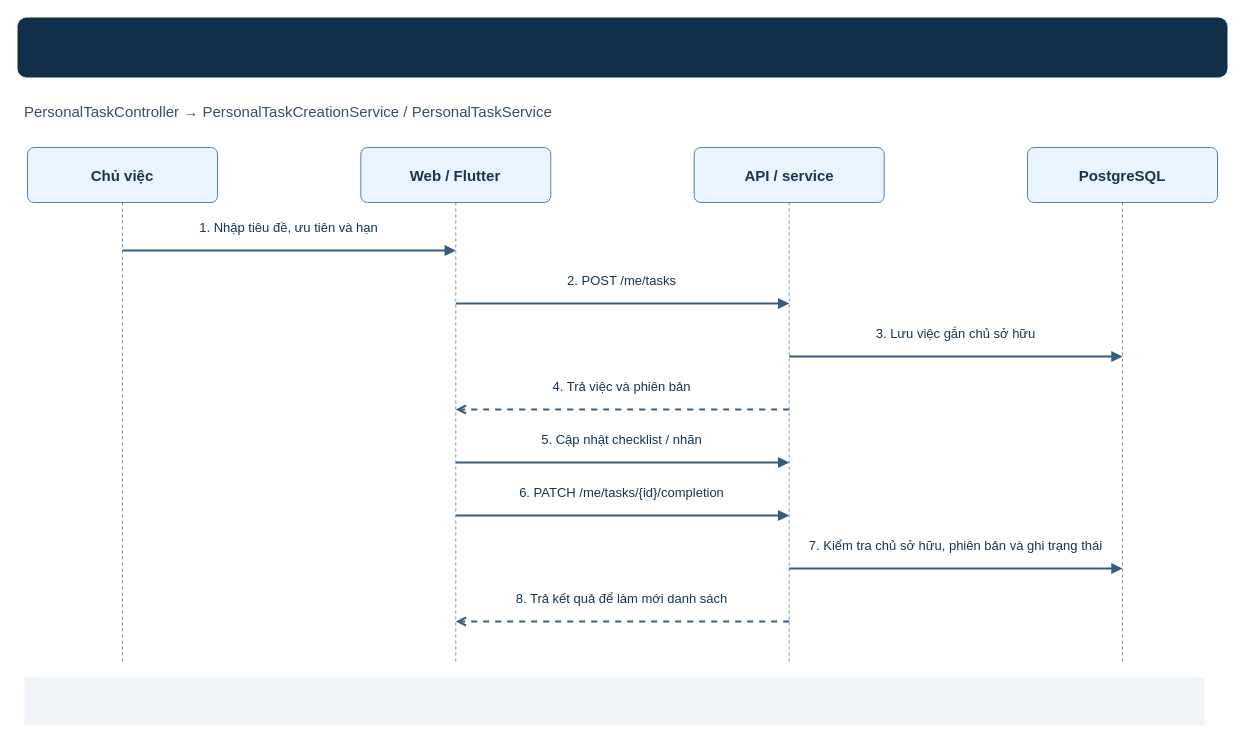
The diagram is 1244 pixels wide and 742 high, and some of its shapes have lost their labels. Each missing label, with the box of its shape:
Tuần tự · Tạo và hoàn thành việc cá nhân: (17, 17, 1227, 77)
Xóa mềm và khôi phục dùng endpoint riêng. Bỏ hoàn thành đưa việc về TODO.: (24, 677, 1204, 725)
